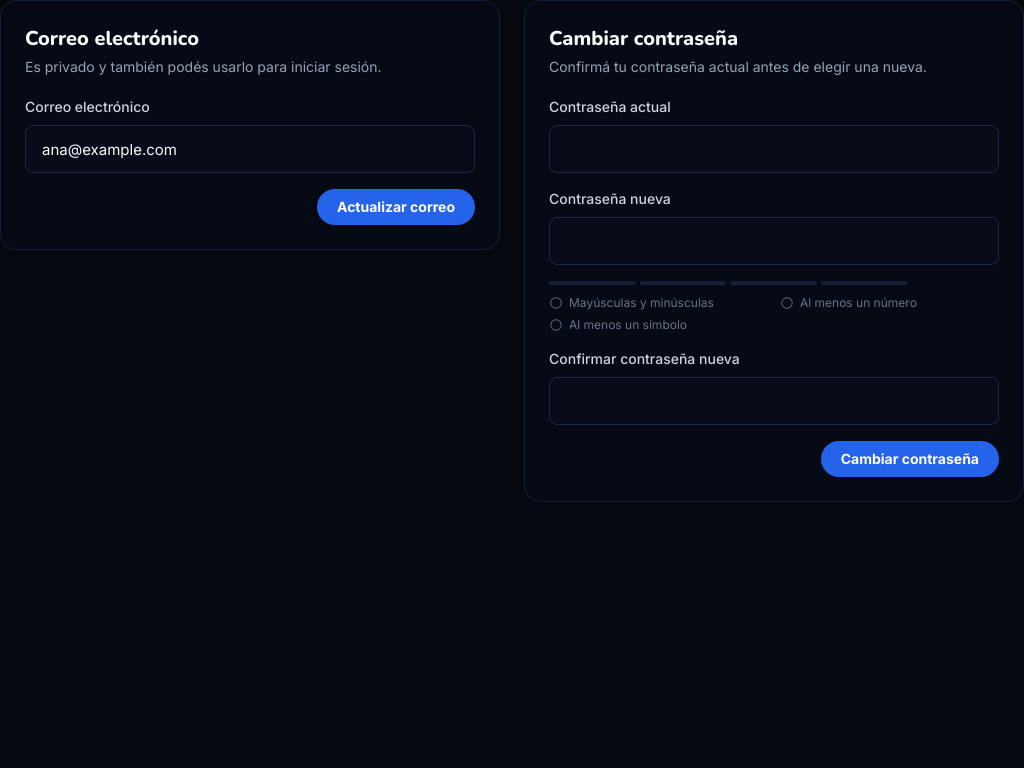
AccountSettings › cambia la contraseña y limpia el formulario
The image size is (1024, 768).
In the password field labelled "Contraseña actual": (774, 149) x1=549 y1=125 x2=999 y2=173, type "ClaveActual123!"
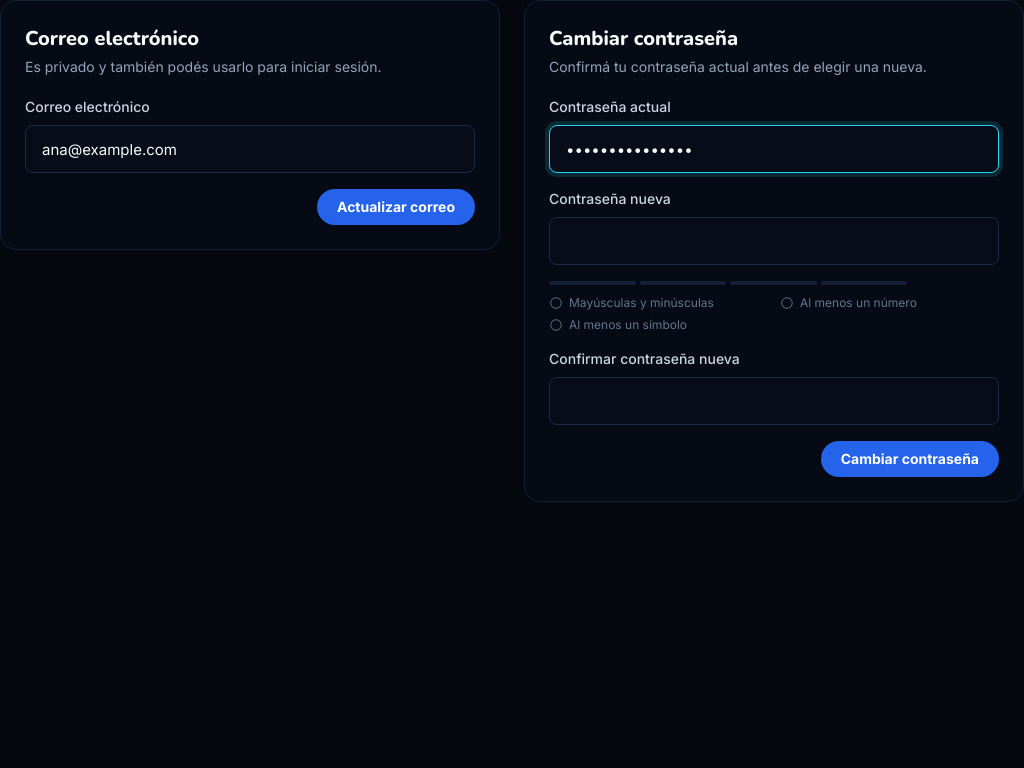
In the password field labelled "Contraseña nueva": (774, 241) x1=549 y1=217 x2=999 y2=265, type "NuevaClave456!"
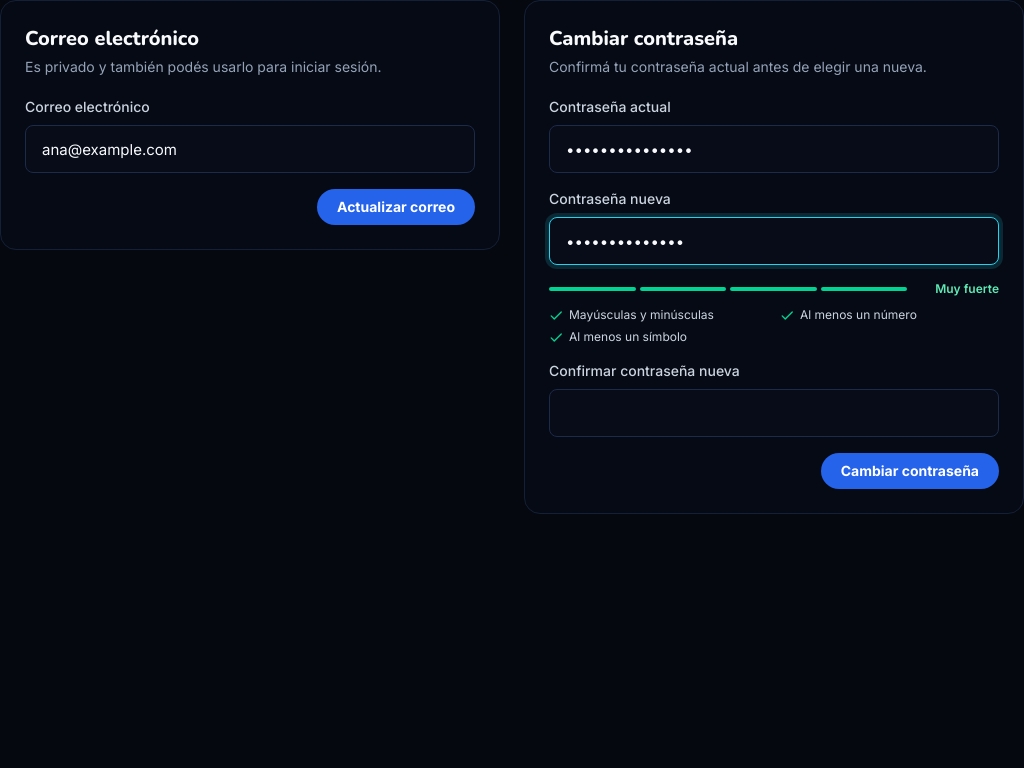
In the password field labelled "Confirmar contraseña nueva": (774, 413) x1=549 y1=389 x2=999 y2=437, type "NuevaClave456!"
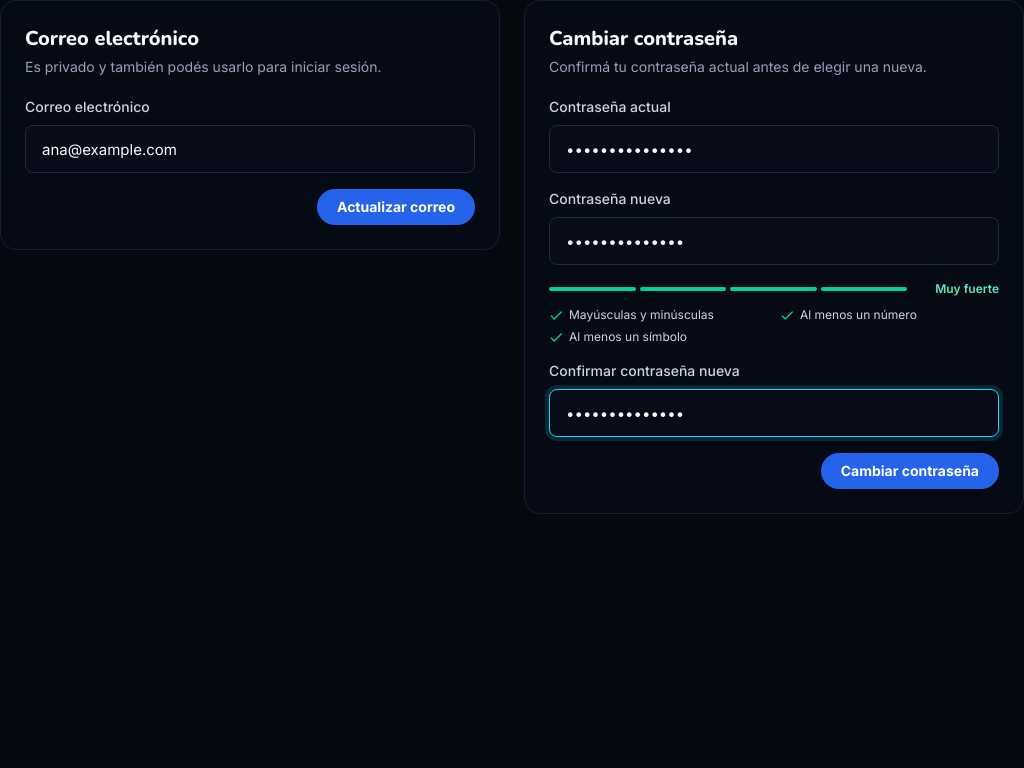
Click the button "Cambiar contraseña": (910, 471) x1=821 y1=453 x2=999 y2=489
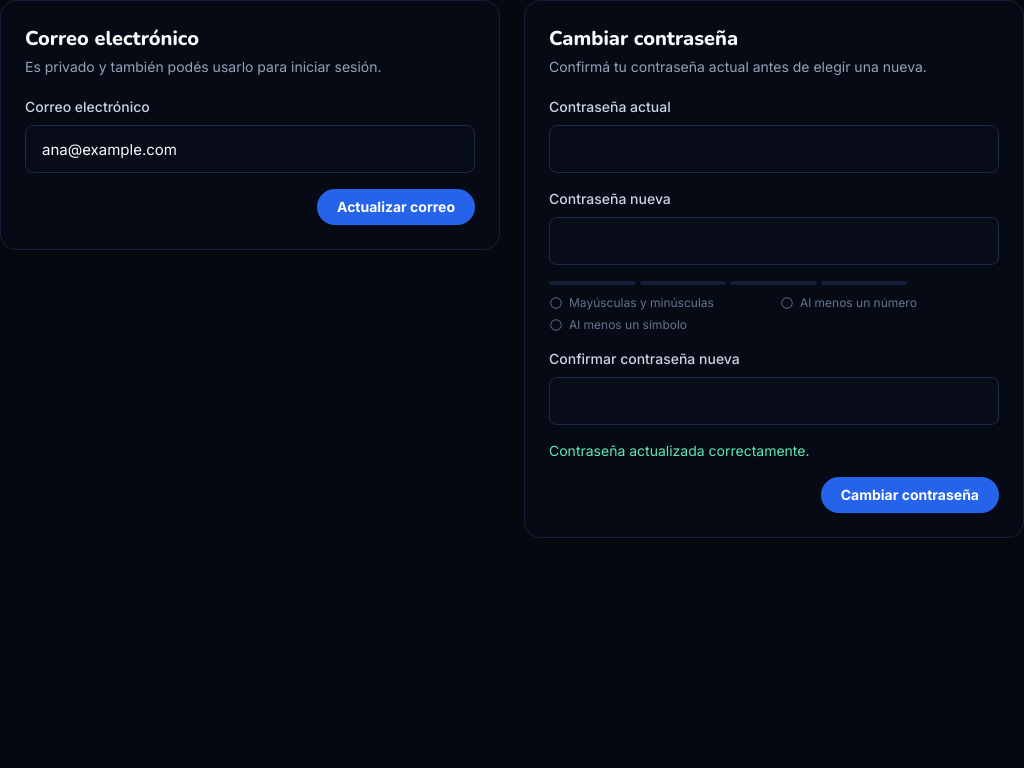
Result: the text "Contraseña actualizada correctamente." is shown at x1=549 y1=442 x2=810 y2=459
Result: the password field labelled "Contraseña nueva" is empty at x1=549 y1=217 x2=999 y2=265
